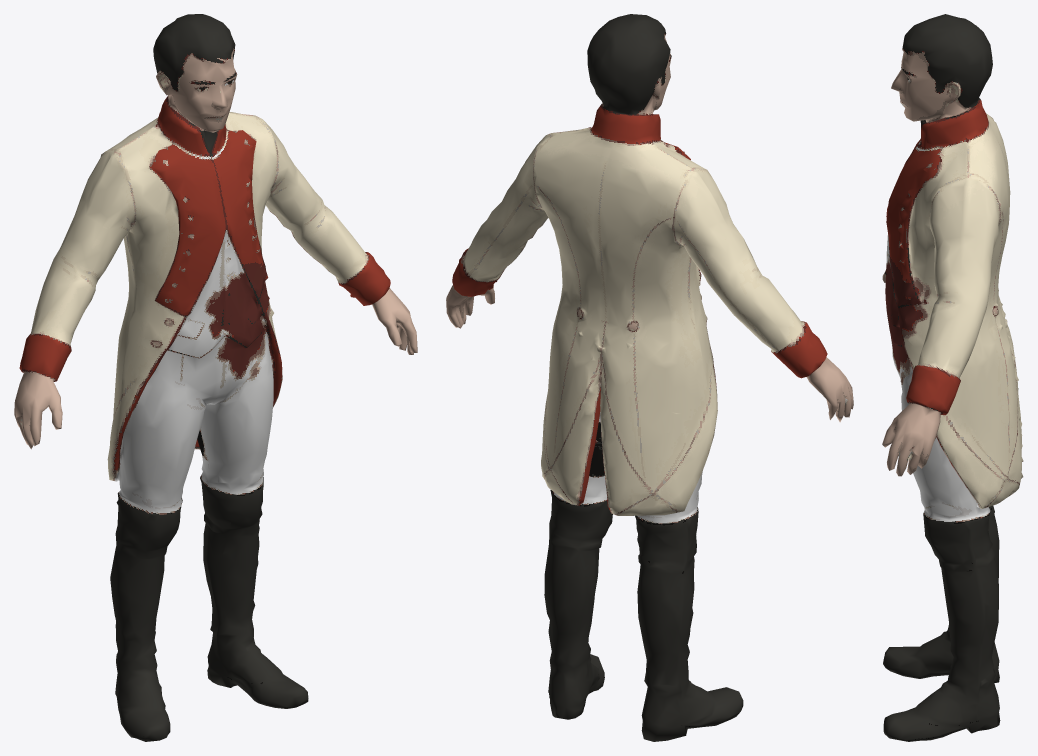
File: malherido.glb
The picture shows the model from 3 angles, left to right: view 1: azimuth 30°, elevation 25°; view 2: azimuth 150°, elevation 25°; view 3: azimuth 270°, elevation 25°; orthographic projection.
Visible parts, largest first — view 1: tripo_node_f03f469a-fcce-4582-9960-fb54b48a1e2c; view 2: tripo_node_f03f469a-fcce-4582-9960-fb54b48a1e2c; view 3: tripo_node_f03f469a-fcce-4582-9960-fb54b48a1e2c.
Boxes of the visible parts, x1,y1,x2,y2 form: tripo_node_f03f469a-fcce-4582-9960-fb54b48a1e2c: (14, 14, 417, 741); tripo_node_f03f469a-fcce-4582-9960-fb54b48a1e2c: (446, 14, 853, 741); tripo_node_f03f469a-fcce-4582-9960-fb54b48a1e2c: (882, 14, 1023, 741).
Size of the model in its own units: 0.6008 by 1 by 0.1875.
1 material, 1 textured.
